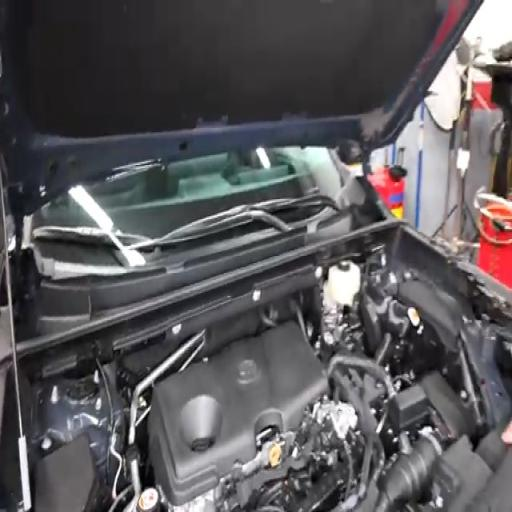hood: (0, 0, 482, 213)
windshield: (31, 147, 343, 240)
